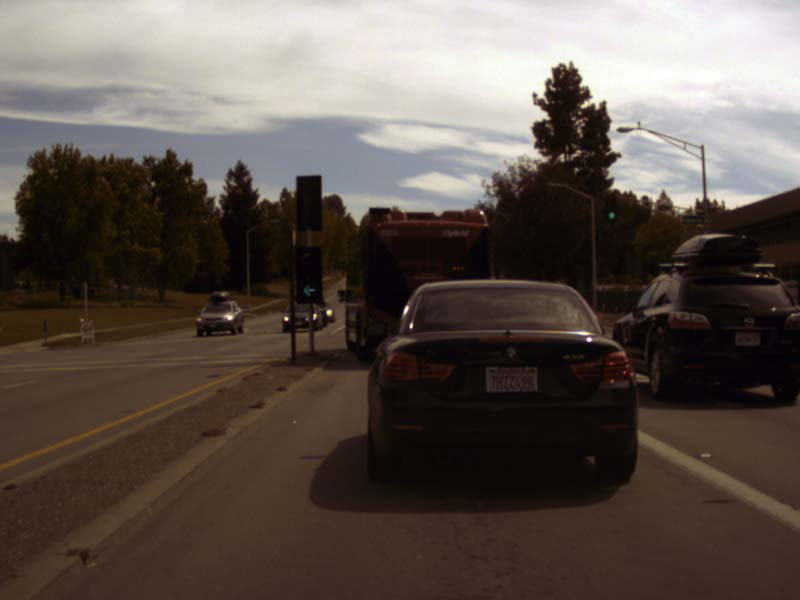Green: (293, 246, 322, 302), (606, 195, 617, 220)
